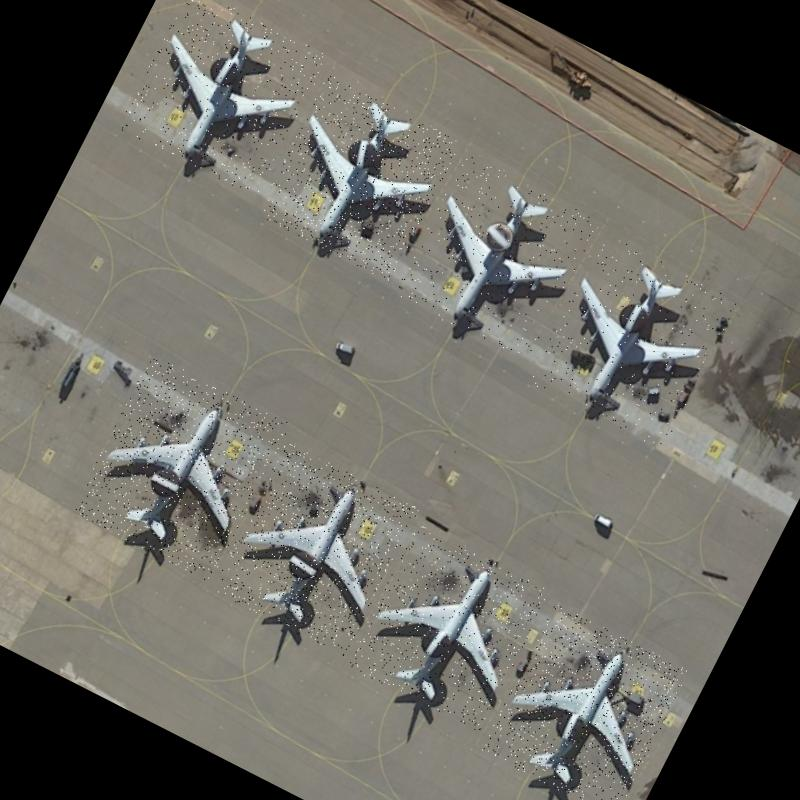A7: (70, 353, 290, 582), (527, 232, 738, 450), (210, 441, 419, 657), (392, 152, 599, 364), (344, 523, 550, 734), (256, 74, 461, 282), (116, 0, 328, 198), (479, 602, 689, 800)
